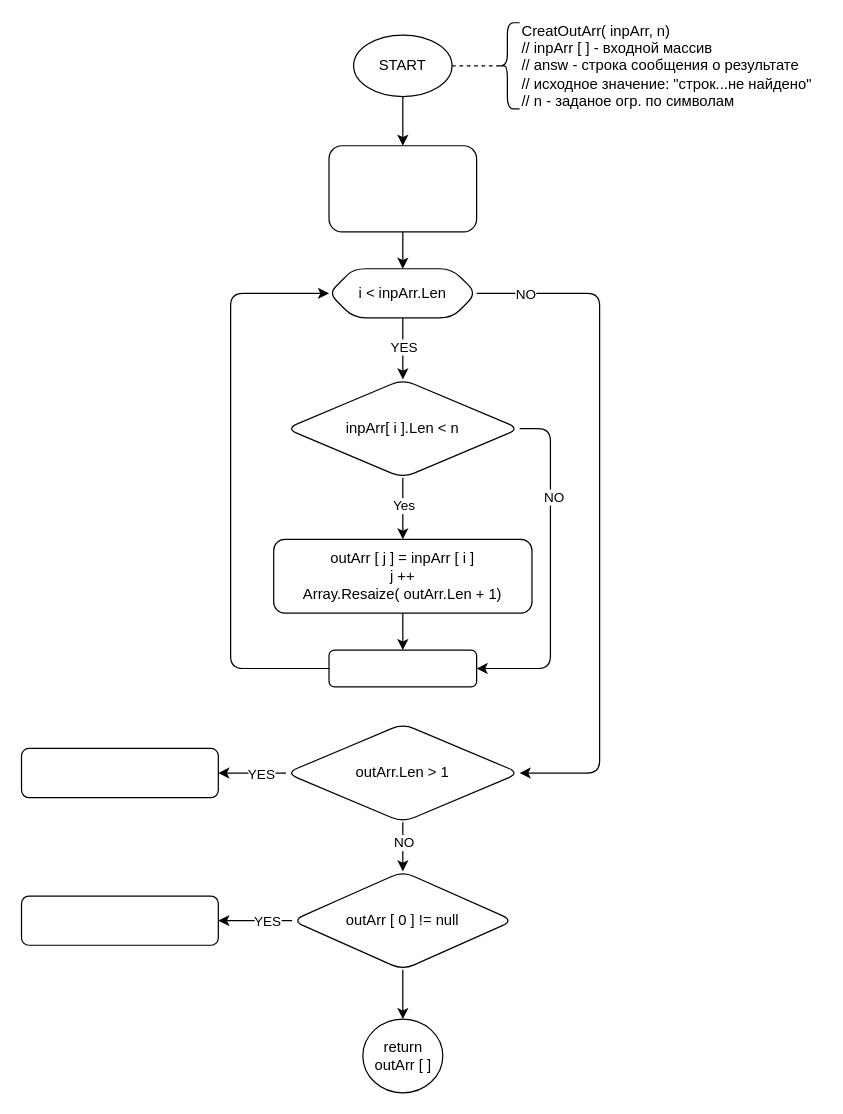
This 843x1114 diagram has some shape labels left out. Here are the shapes that lost their labels. From the top down, the box of each, then its label:
(328, 145, 477, 232): new outArr[] i=0 j=0
(328, 649, 477, 687): i ++
(20, 747, 218, 798): Array.Resaize(outArr.Len-1
(20, 895, 218, 945): answ="строк ..... найдено"
